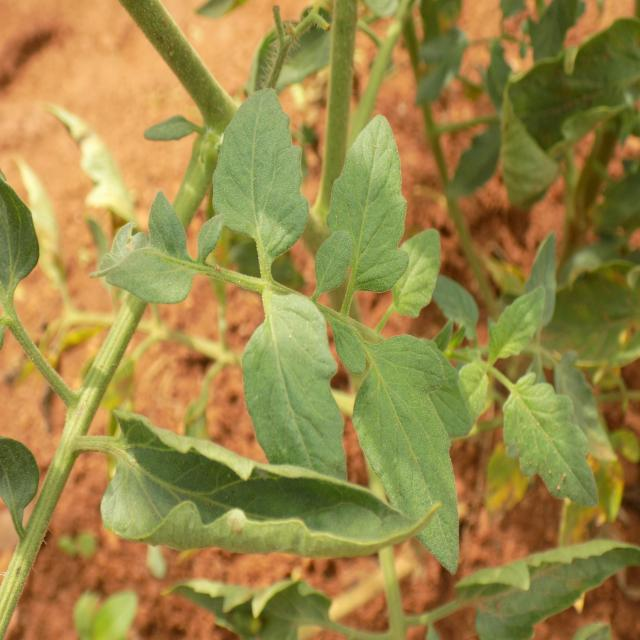tomato_healthy: (106, 407, 431, 555), (355, 353, 460, 573), (212, 88, 307, 270), (245, 304, 343, 473), (333, 111, 410, 291), (504, 374, 598, 508)
